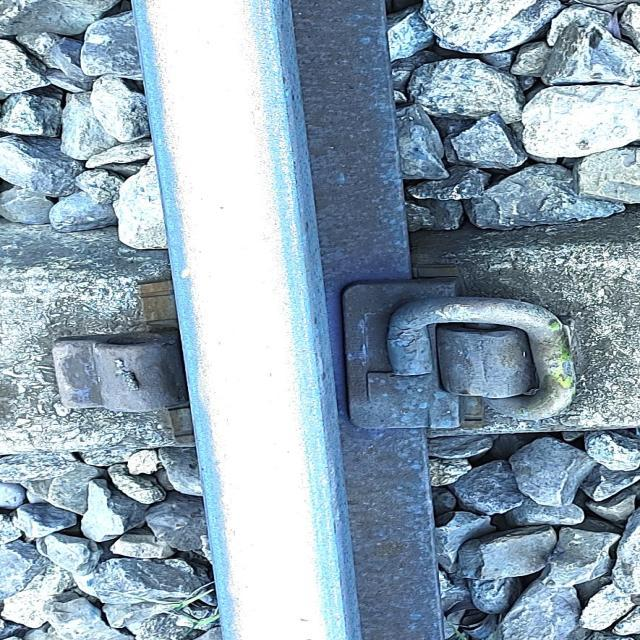Good Fasteners: (321, 279, 628, 427)
Missing Fastener: (25, 314, 208, 436)
